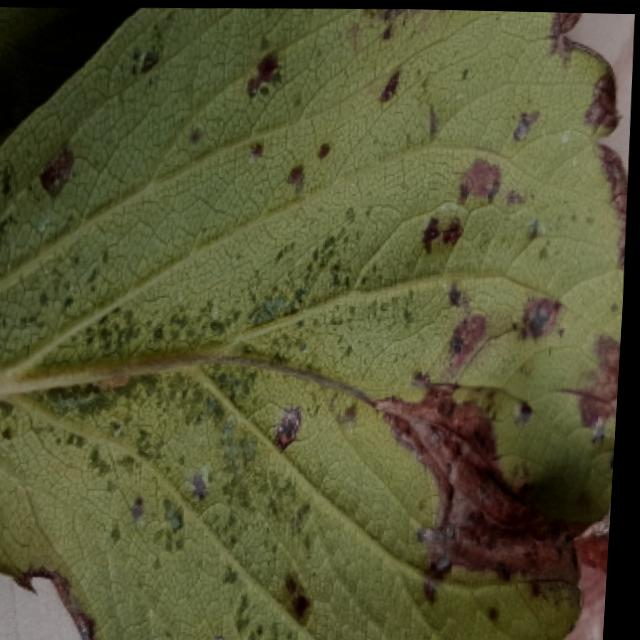Angular Leafspot: (0, 6, 630, 640)
